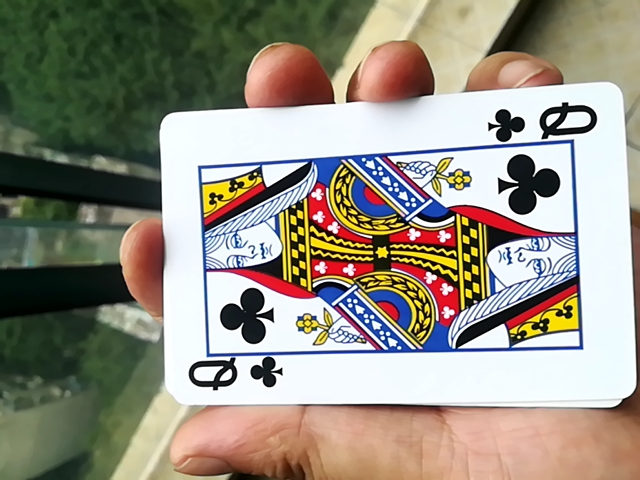mh q: (142, 97, 636, 423)
